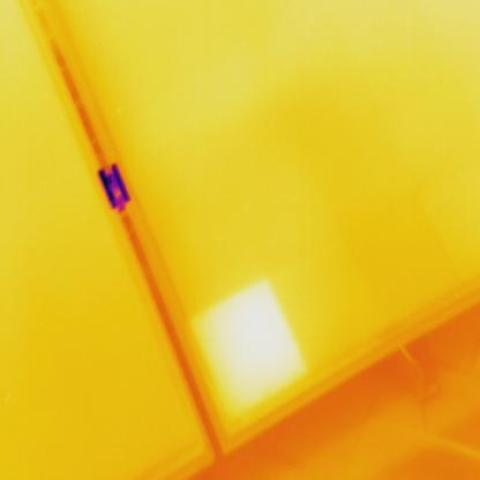fault: (194, 280, 310, 412)
